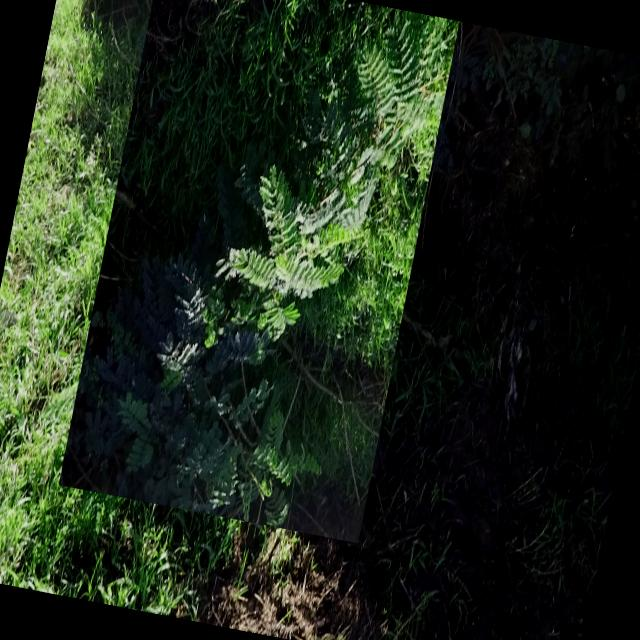Mysore-Thorn-Weed: (58, 0, 459, 543)
